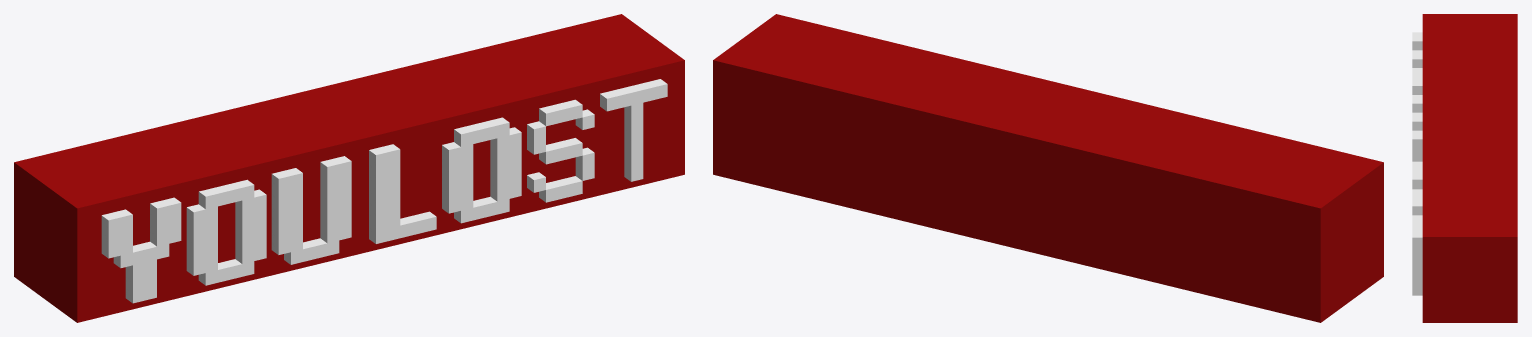
Rendered from LOST.fbx.
3 views of the same model, side by side, from view 1: azimuth 30°, elevation 25°; view 2: azimuth 150°, elevation 25°; view 3: azimuth 270°, elevation 25° (orthographic). The views are drawn at different scales.
Parts seen in each view (by area): view 1: Matrix; view 2: Matrix; view 3: Matrix.
Boxes of the visible parts, left/top/right/bottom form: Matrix: left=14, top=14, right=684, bottom=322; Matrix: left=713, top=14, right=1383, bottom=322; Matrix: left=1412, top=14, right=1517, bottom=322.
Size of the model in its own units: 50 by 9 by 10.
1 material, 1 textured.
